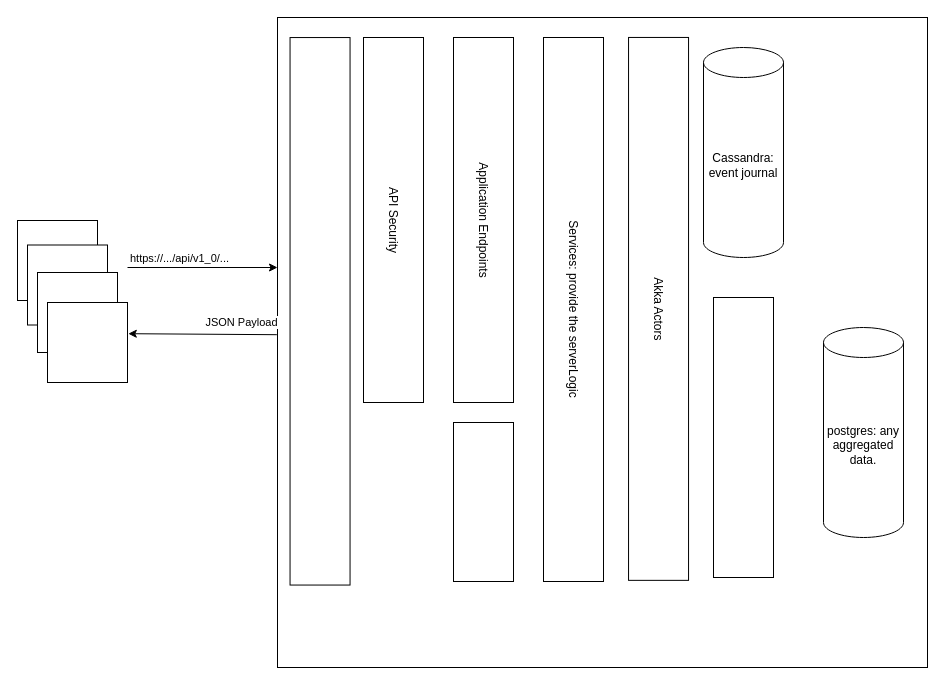
Image size: 945x685. Some labels were removed from this diagram. Here are the shapes that lost their labels. From the top down, the centre of each, then its label:
At (x=319, y=311): "Akka HTTP".
At (x=743, y=437): "DAO: Repository classes".
At (x=483, y=502): "Login".
